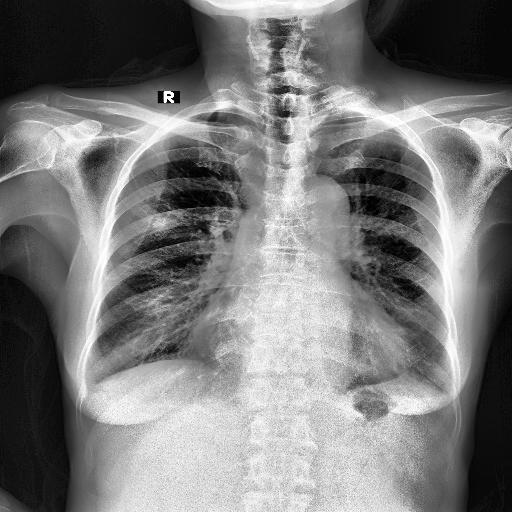0- Aortic enlargement: (290, 176, 352, 230), (291, 174, 351, 222)
3- Cardiomegaly: (188, 314, 418, 377), (190, 319, 424, 373), (190, 328, 412, 382)
